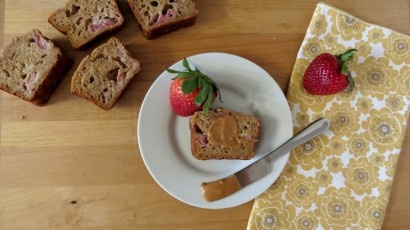background: (28, 11, 154, 73), (63, 20, 168, 58), (37, 17, 229, 34), (30, 0, 92, 40), (0, 10, 48, 38), (48, 0, 128, 15)
